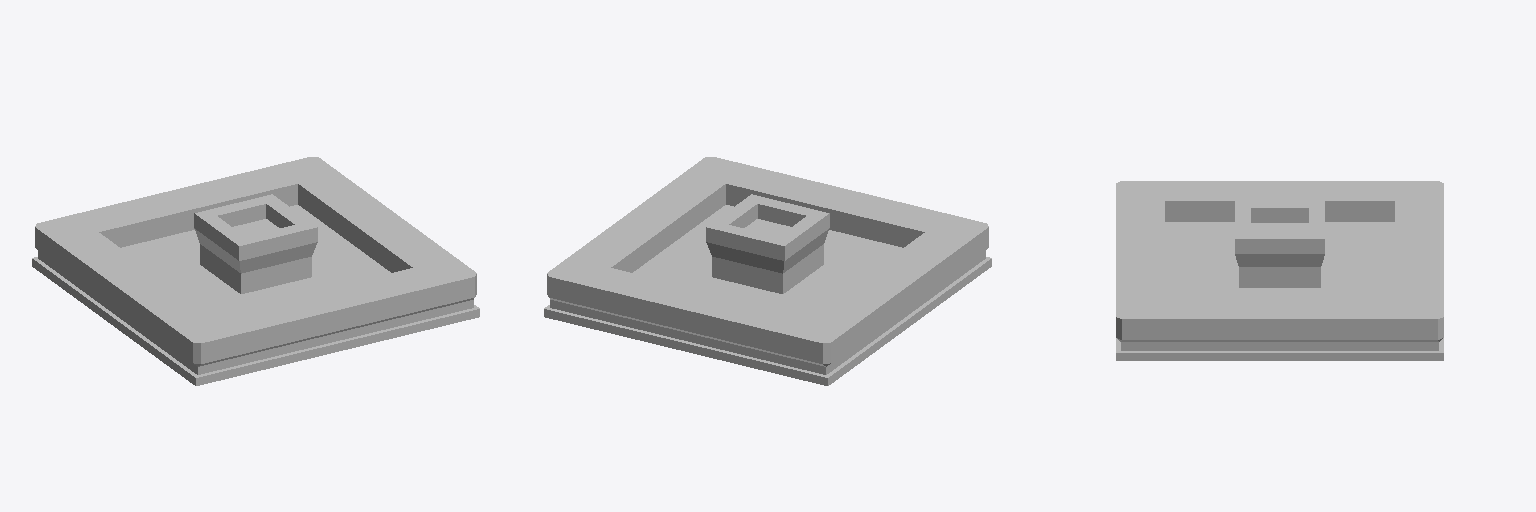
File: fountainSquareDetail.obj
3 renders of one model, left to right at view 1: azimuth 30°, elevation 25°; view 2: azimuth 150°, elevation 25°; view 3: azimuth 270°, elevation 25°, orthographic.
Visible parts, largest first — view 1: fountainSquareDetail; view 2: fountainSquareDetail; view 3: fountainSquareDetail.
Boxes of the visible parts, box(x1,y1,x2,y2) form: fountainSquareDetail: box(32, 157, 479, 385); fountainSquareDetail: box(544, 157, 991, 385); fountainSquareDetail: box(1116, 181, 1443, 360).
Bounding box in the file's own units: 2 × 0.48 × 2.